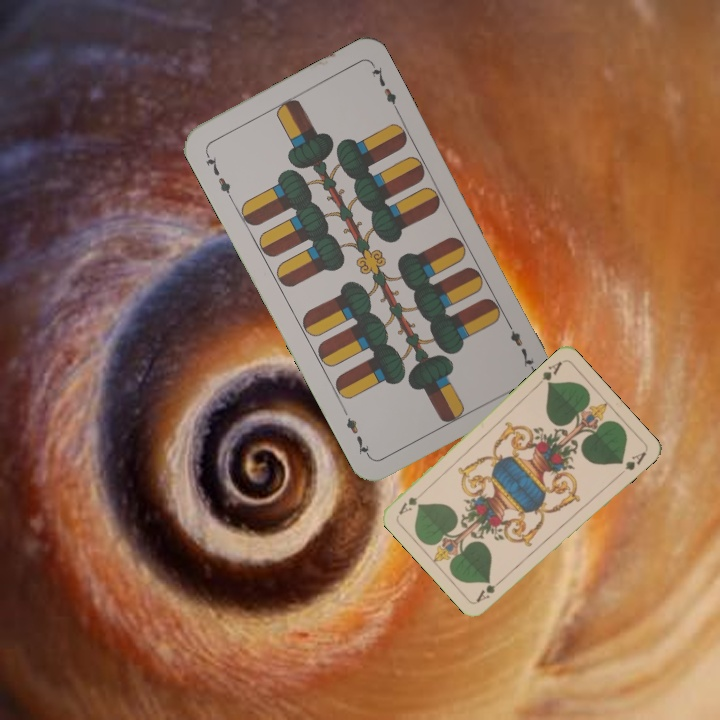E7: (502, 316, 537, 371), (201, 147, 235, 202)
GA: (472, 574, 507, 605), (532, 357, 565, 389)
